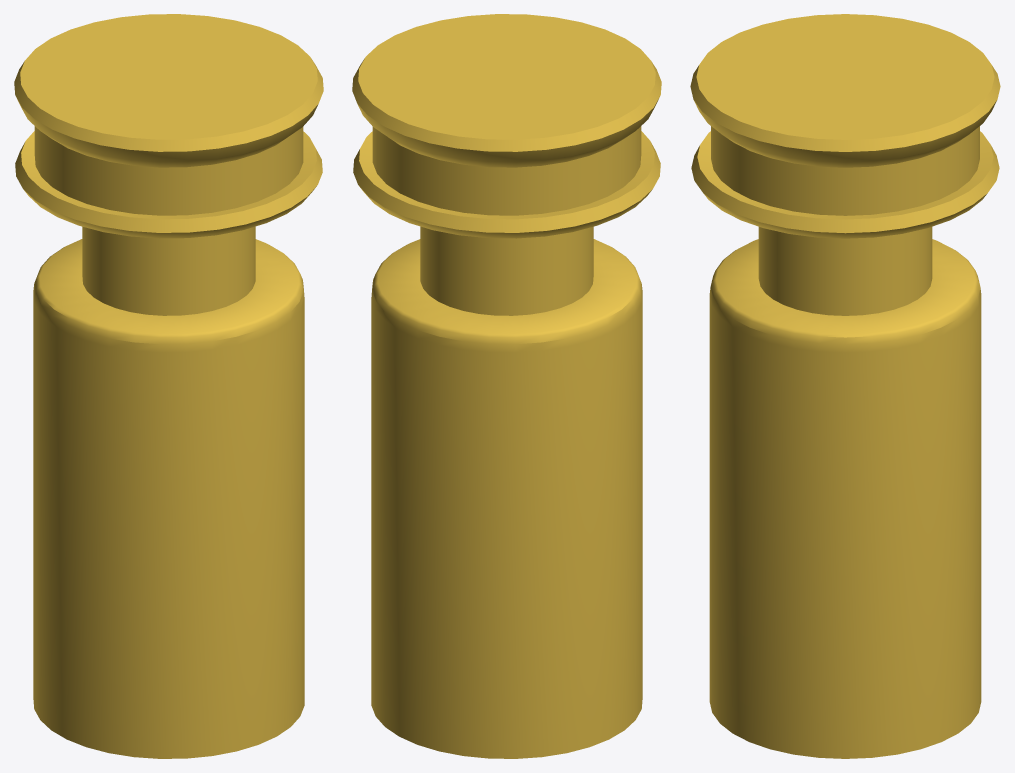
Rendered from casino table bet .fbx.
The picture shows the model from 3 angles, left to right: view 1: azimuth 30°, elevation 25°; view 2: azimuth 150°, elevation 25°; view 3: azimuth 270°, elevation 25°; orthographic projection.
Visible parts, largest first — view 1: Cylinder; view 2: Cylinder; view 3: Cylinder.
Boxes of the visible parts, <box> form: Cylinder: <box>14,14,323,758</box>; Cylinder: <box>352,14,661,758</box>; Cylinder: <box>690,14,1000,758</box>.
Bounding box in the file's own units: 13.61 × 30.23 × 13.61.
